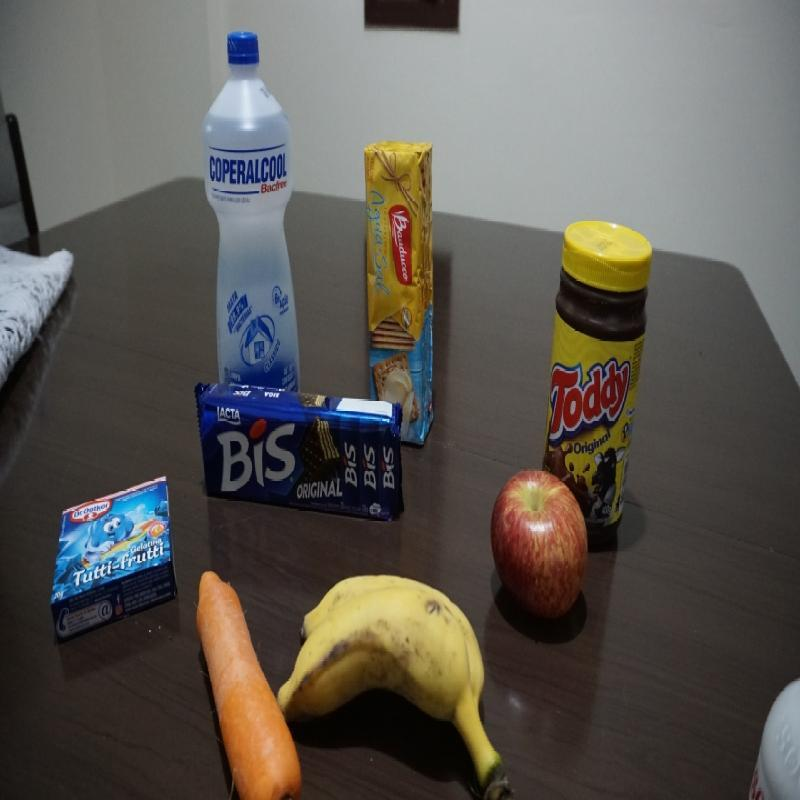Alcohol Bottle: (201, 35, 300, 380)
Apple: (492, 468, 595, 620)
Banana: (288, 566, 496, 797)
Carrot: (192, 568, 282, 799)
Chocolate Powder: (549, 217, 643, 462)
Cracker: (364, 141, 434, 379)
Gelatine: (48, 479, 177, 649)
